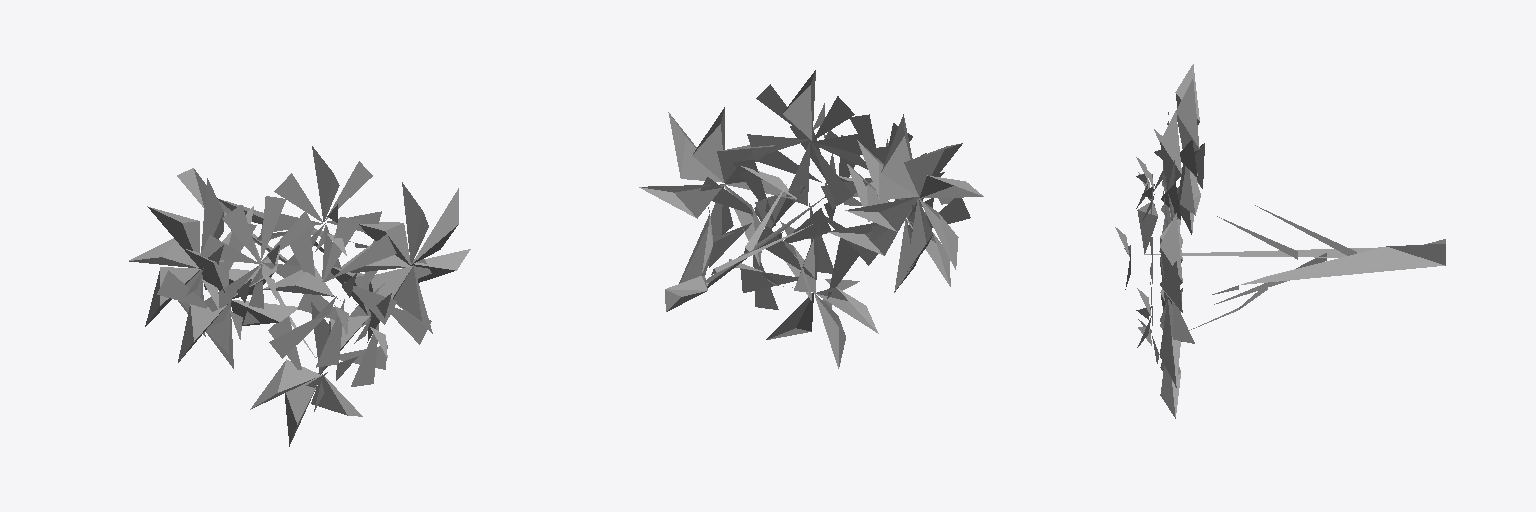
Rendered from savannaTree.obj.
3 views of the same model, side by side, from view 1: azimuth 30°, elevation 25°; view 2: azimuth 150°, elevation 25°; view 3: azimuth 270°, elevation 25° (orthographic).
Visible parts, largest first — view 1: savannaTree; view 2: savannaTree; view 3: savannaTree.
Boxes of the visible parts, x1,y1,x2,y2 form: savannaTree: [129, 146, 470, 446]; savannaTree: [639, 70, 983, 368]; savannaTree: [1115, 64, 1445, 418].
Size of the model in its own units: 14.95 by 12.24 by 12.44.